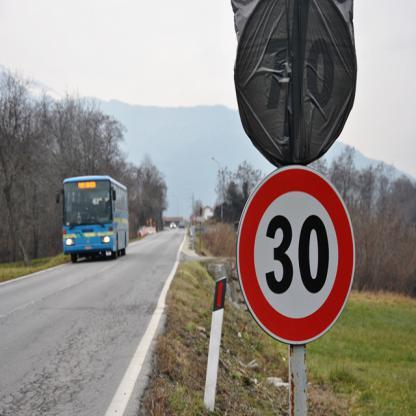Speed Limit 30: (237, 164, 357, 342)
